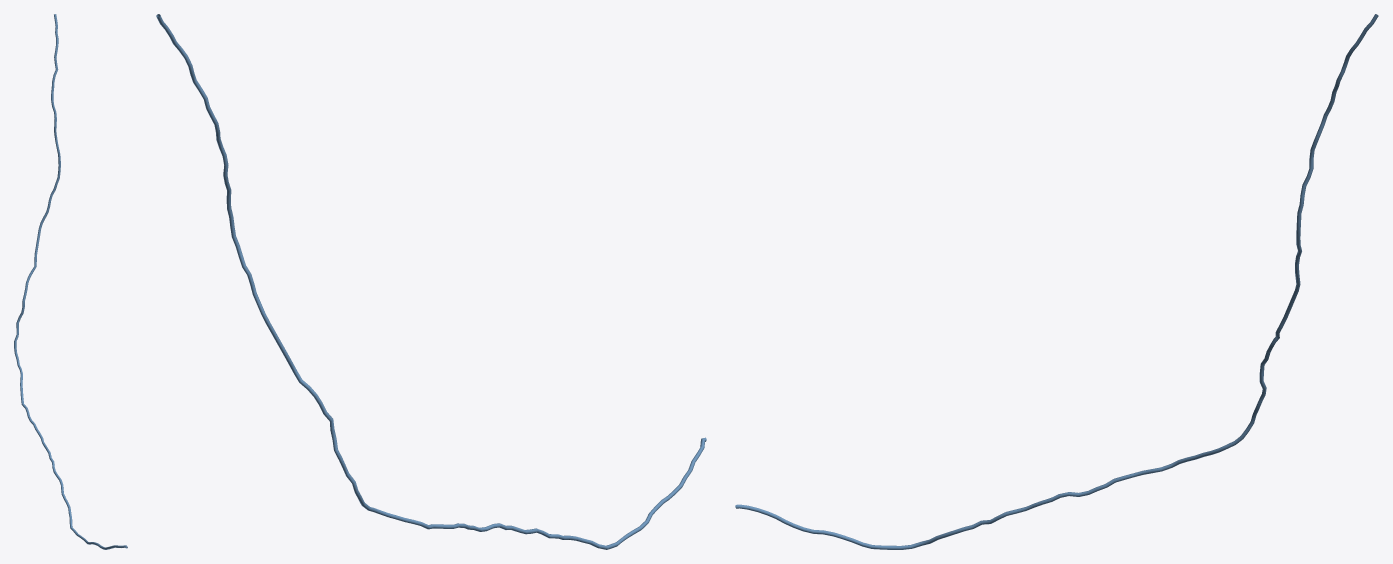
Rendered from sweep194.fbx.
The picture shows the model from 3 angles, left to right: view 1: azimuth 30°, elevation 25°; view 2: azimuth 150°, elevation 25°; view 3: azimuth 270°, elevation 25°; orthographic projection. The views are drawn at different scales.
Visible parts, largest first — view 1: sweep194; view 2: sweep194; view 3: sweep194.
Part boxes in pixels (bbox=[...]): sweep194: bbox=[14, 14, 127, 549]; sweep194: bbox=[156, 14, 706, 549]; sweep194: bbox=[735, 14, 1378, 549].
Bounding box in the file's own units: 1.16 × 3.32 × 3.05.
